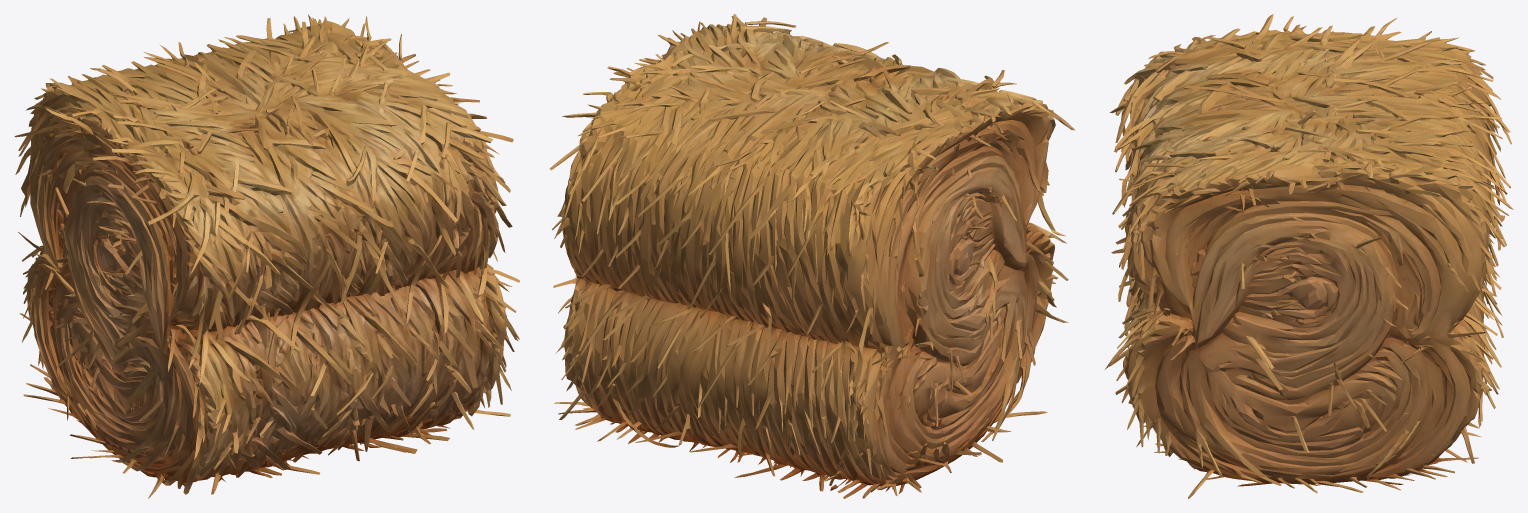
3 renders of one model, left to right at view 1: azimuth 30°, elevation 25°; view 2: azimuth 150°, elevation 25°; view 3: azimuth 270°, elevation 25°, orthographic. The views are drawn at different scales.
Visible parts, largest first — view 1: model; view 2: model; view 3: model.
Boxes of the visible parts, bbox=[...] form: model: bbox=[14, 14, 519, 498]; model: bbox=[549, 14, 1074, 498]; model: bbox=[1105, 14, 1513, 498].
Size of the model in its own units: 1.9 by 1.66 by 1.82.
Materials: 1 (1 with a texture image).
